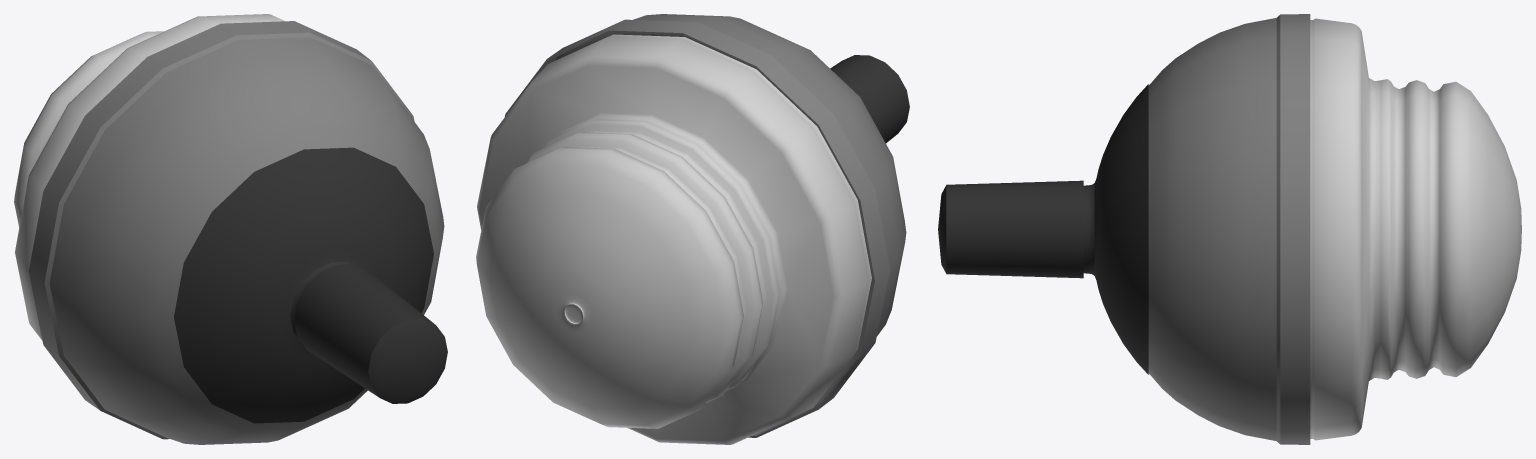
Rendered from Agora.obj.
3 views of the same model, side by side, from view 1: azimuth 30°, elevation 25°; view 2: azimuth 150°, elevation 25°; view 3: azimuth 270°, elevation 25° (orthographic). The views are drawn at different scales.
Visible parts, largest first — view 1: BezierCurve.002_BezierCurve.004, Glas.001_BezierCurve.003; view 2: Glas.001_BezierCurve.003, BezierCurve.002_BezierCurve.004; view 3: BezierCurve.002_BezierCurve.004, Glas.001_BezierCurve.003.
Part boxes in pixels (left/top/right/bottom): BezierCurve.002_BezierCurve.004: left=28, top=21, right=447, bottom=444; Glas.001_BezierCurve.003: left=14, top=14, right=284, bottom=340; Glas.001_BezierCurve.003: left=476, top=34, right=871, bottom=444; BezierCurve.002_BezierCurve.004: left=505, top=14, right=909, bottom=437; BezierCurve.002_BezierCurve.004: left=938, top=14, right=1310, bottom=444; Glas.001_BezierCurve.003: left=1310, top=18, right=1521, bottom=440.
Bounding box in the file's own units: 0.45 × 0.45 × 0.6091.
